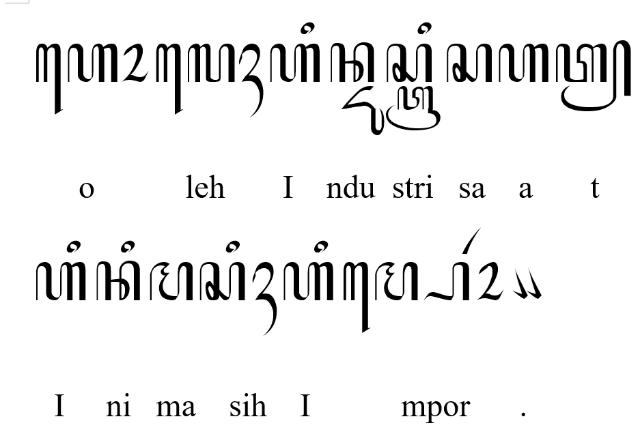-t: (554, 40, 632, 112)
_du: (341, 85, 385, 136)
_h1: (238, 44, 264, 118), (252, 262, 278, 336)
_p: (424, 262, 470, 302)
_r1: (462, 227, 482, 255)
e1: (35, 43, 63, 115), (155, 43, 183, 114), (342, 262, 370, 332)
h: (68, 43, 119, 84), (498, 42, 550, 82), (270, 42, 320, 82), (36, 262, 86, 302), (284, 262, 334, 302)
i: (416, 21, 432, 35), (120, 240, 136, 254), (225, 240, 241, 254), (66, 240, 80, 254), (301, 22, 315, 34), (314, 241, 328, 253)
kom: (525, 267, 541, 299), (512, 268, 528, 298)
l: (187, 44, 235, 82)
m: (148, 262, 194, 301), (374, 262, 420, 301)
n: (96, 261, 142, 301), (330, 42, 374, 82)
o: (121, 42, 149, 82), (476, 262, 504, 302)
s: (199, 261, 245, 301), (386, 44, 432, 82), (446, 44, 492, 82)
tr: (385, 85, 441, 131)
